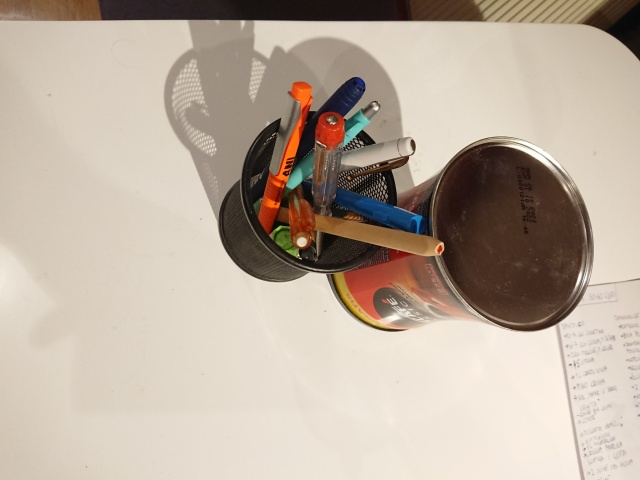Nescafe Classic 225g: (323, 133, 597, 336)
